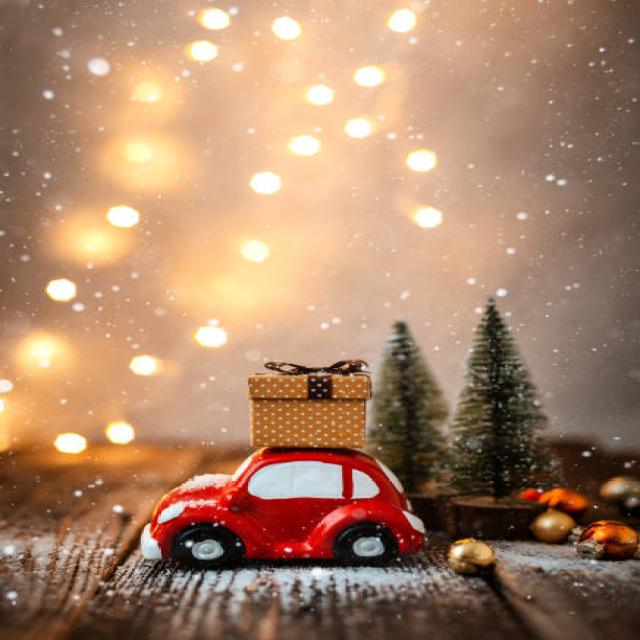Car: (138, 444, 426, 568)
